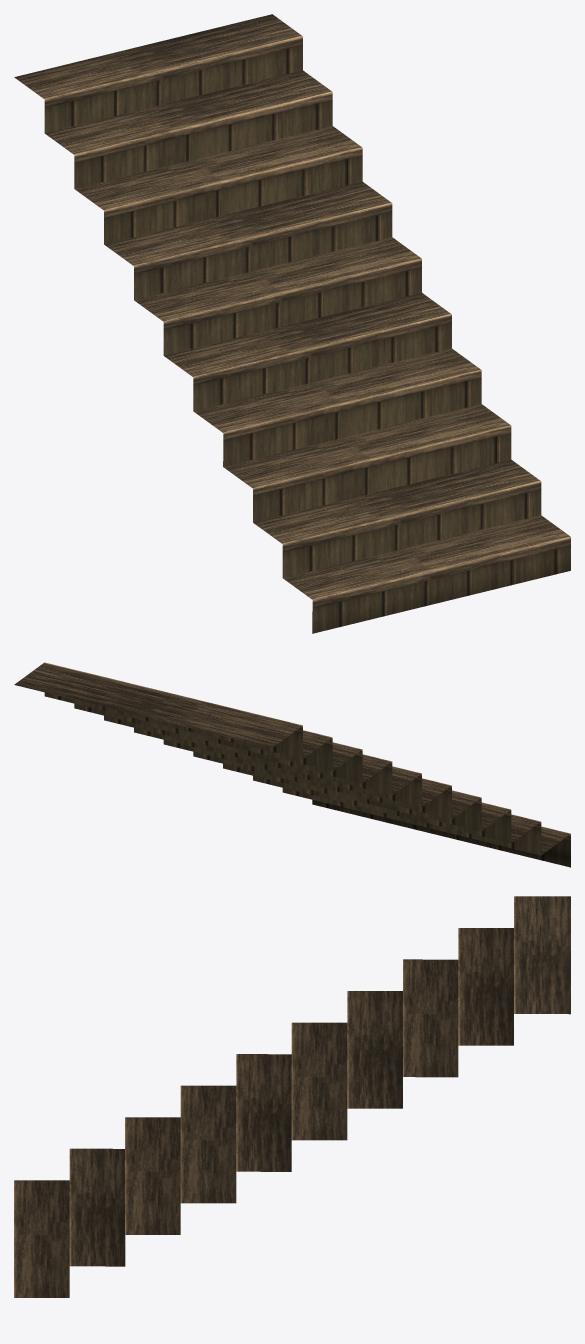
File: stairs_25m.fbx
3 renders of one model, top to bottom at view 1: azimuth 30°, elevation 25°; view 2: azimuth 150°, elevation 25°; view 3: azimuth 270°, elevation 25°, orthographic. The views are drawn at different scales.
Visible parts, largest first — view 1: pCube16; view 2: pCube16; view 3: pCube16.
Boxes of the visible parts, x1,y1,x2,y2 form: pCube16: (14,14,570,633); pCube16: (14,662,570,867); pCube16: (14,896,570,1297).
Bounding box in the file's own units: 200 × 250 × 400.
Materials: 1 (1 with a texture image).
